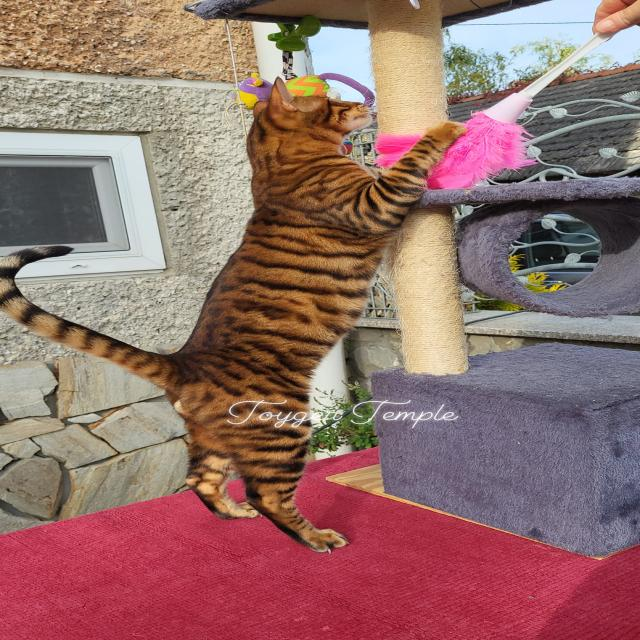Toyger: (0, 73, 474, 557)
